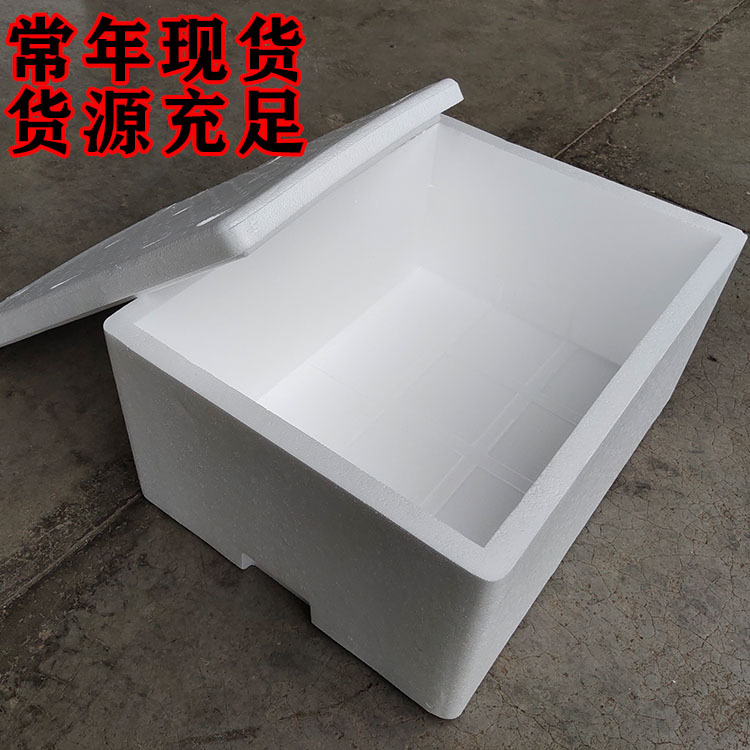泡沫箱: (0, 82, 744, 719)
